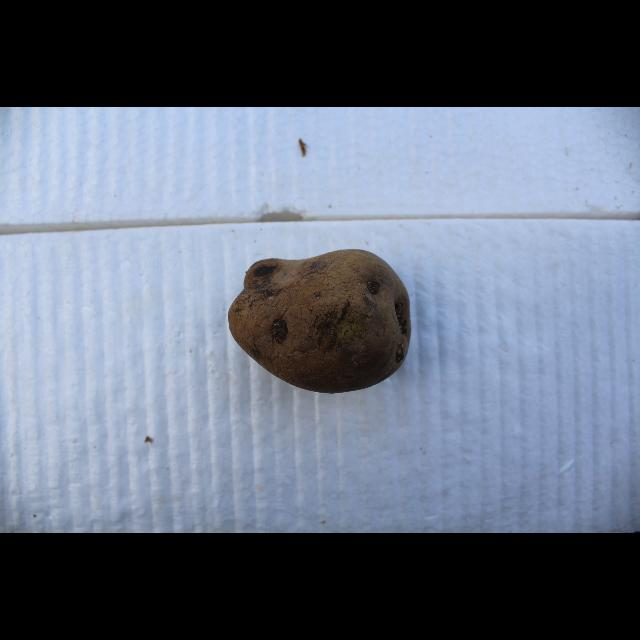Diseased-fungal potato: (227, 247, 416, 397)
